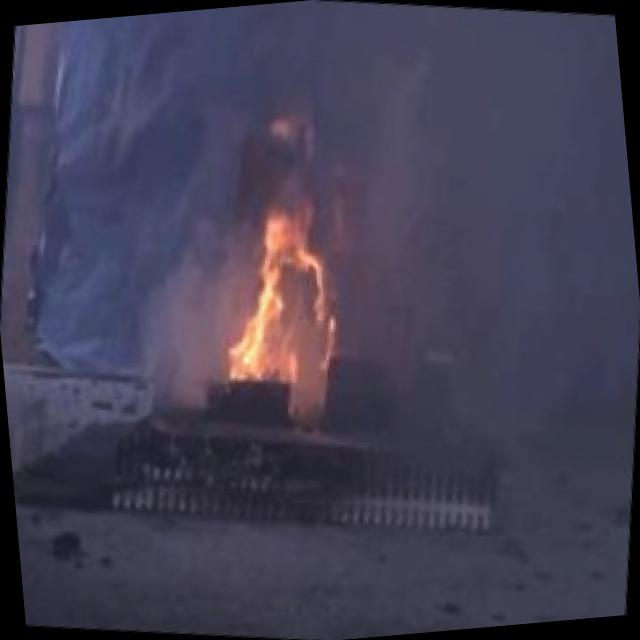fire: (203, 168, 364, 420)
